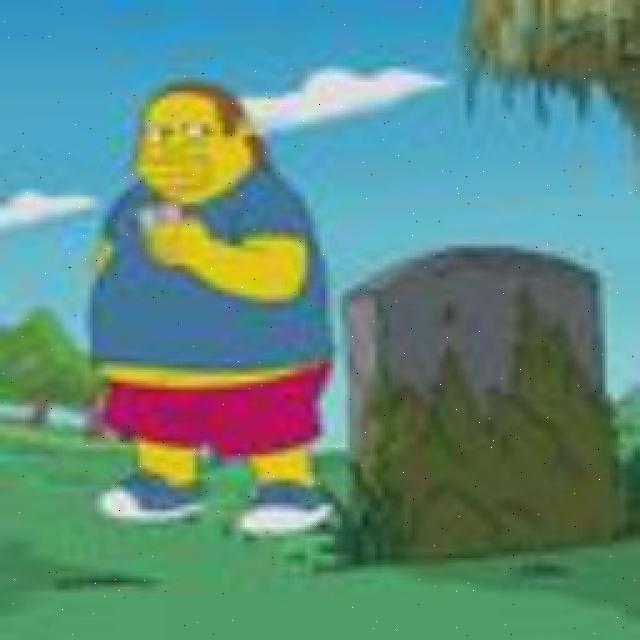Comic Book Guy: (122, 76, 272, 216)
